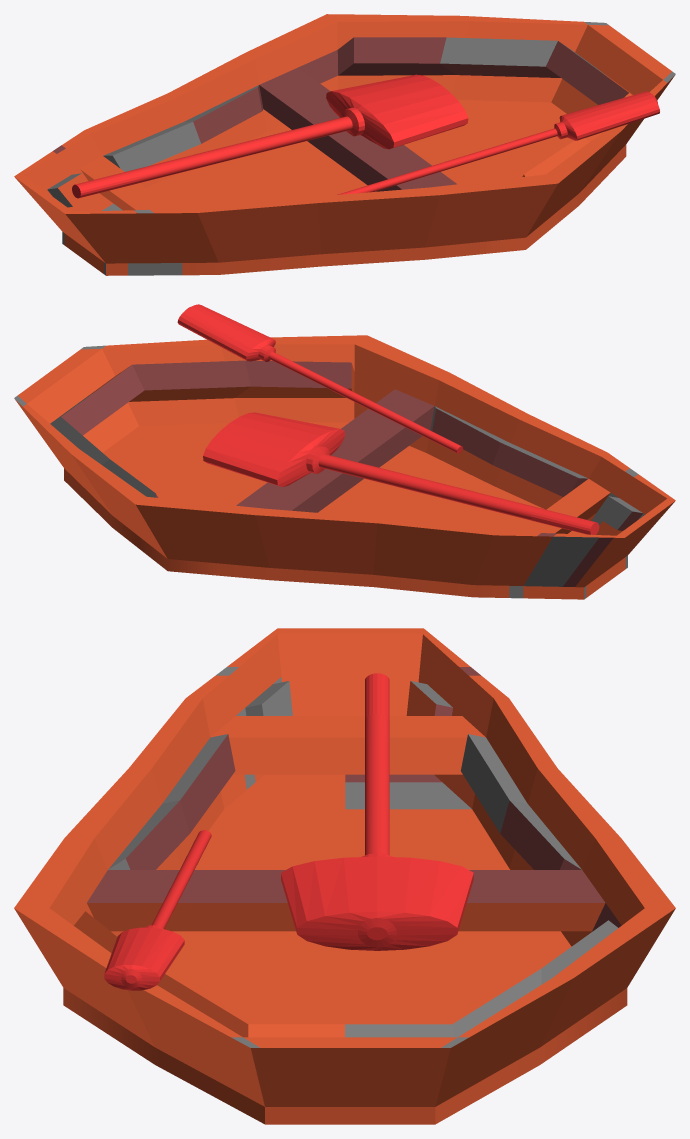
The model's file is boat.fbx.
3 renders of one model, top to bottom at view 1: azimuth 30°, elevation 25°; view 2: azimuth 150°, elevation 25°; view 3: azimuth 270°, elevation 25°, orthographic. The views are drawn at different scales.
Visible parts, largest first — view 1: Box002, boat, Cylinder001; view 2: Box002, boat, Cylinder001; view 3: Box002, boat, Cylinder001.
Boxes of the visible parts, x1,y1,x2,y2 form: Box002: (14, 14, 675, 275); boat: (72, 74, 468, 198); Cylinder001: (337, 91, 659, 194); Box002: (14, 335, 675, 599); boat: (203, 412, 599, 534); Cylinder001: (177, 304, 462, 453); Box002: (14, 628, 675, 1124); boat: (281, 673, 473, 950); Cylinder001: (104, 830, 211, 990).
Size of the model in its own units: 70.45 by 11.35 by 46.97.
